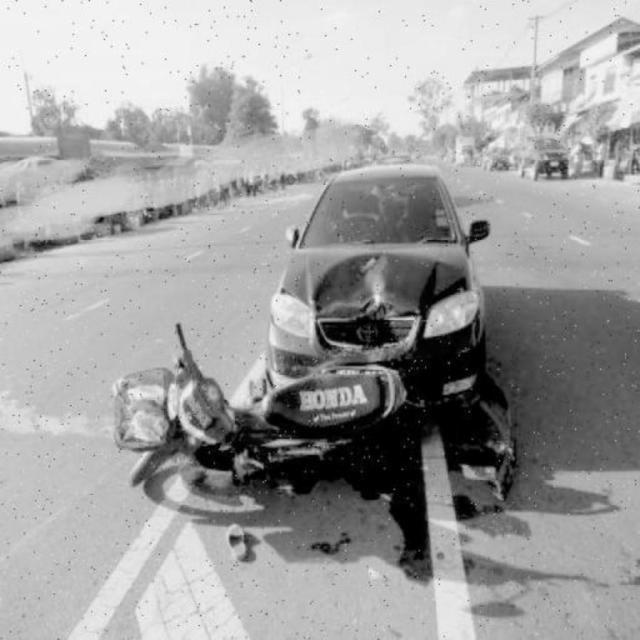accident: (142, 162, 469, 522)
vehicle: (519, 135, 573, 179)
